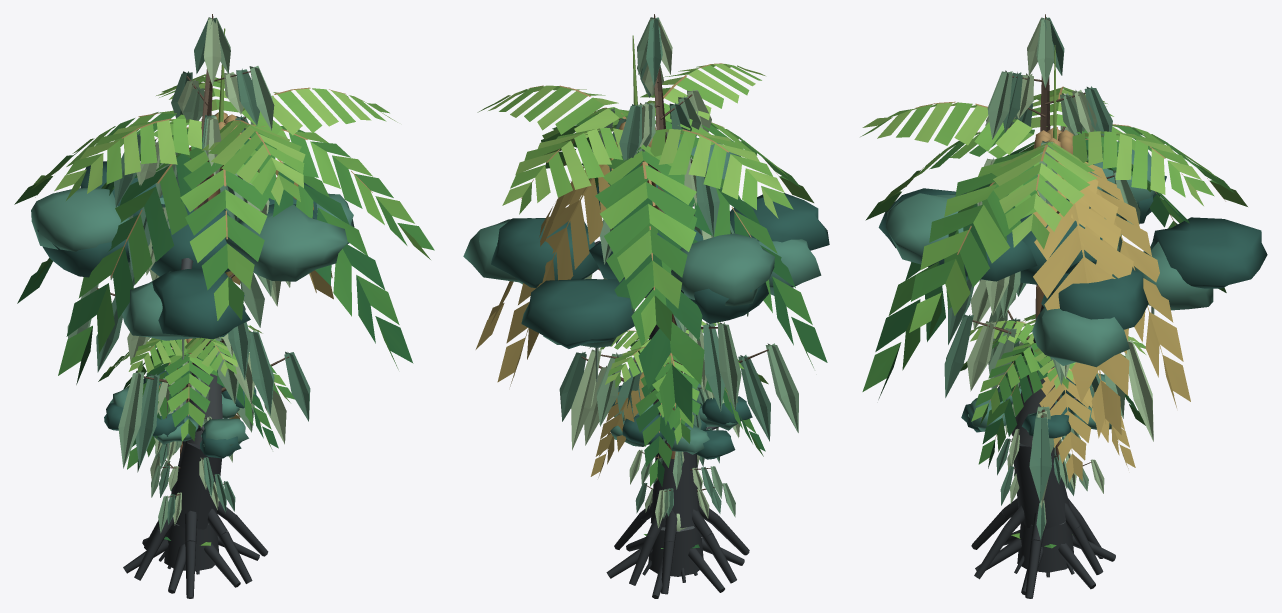
The model's file is palms.glb.
The picture shows the model from 3 angles, left to right: view 1: azimuth 30°, elevation 25°; view 2: azimuth 150°, elevation 25°; view 3: azimuth 270°, elevation 25°; orthographic projection. The views are drawn at different scales.
Visible parts, largest first — view 1: Tree_palm_mature, Tree_ironwood_mature, Tree_sea_pine_mature, Tree_palm_sapling, Tree_ironwood_sapling, Tree_sea_pine_sapling, Tree_ironwood_stump; view 2: Tree_palm_mature, Tree_ironwood_mature, Tree_sea_pine_mature, Tree_palm_sapling, Tree_ironwood_sapling, Tree_sea_pine_sapling, Tree_ironwood_stump; view 3: Tree_palm_mature, Tree_ironwood_mature, Tree_sea_pine_mature, Tree_palm_sapling, Tree_ironwood_stump, Tree_sea_pine_sapling, Tree_ironwood_sapling.
Boxes of the visible parts, x1,y1,x2,y2 form: Tree_palm_mature: (14, 28, 434, 453); Tree_ironwood_mature: (31, 161, 354, 598); Tree_sea_pine_mature: (67, 14, 310, 468); Tree_palm_sapling: (98, 325, 294, 472); Tree_ironwood_sapling: (104, 370, 258, 574); Tree_sea_pine_sapling: (150, 355, 235, 533); Tree_ironwood_stump: (123, 523, 259, 593); Tree_palm_mature: (475, 35, 827, 457); Tree_ironwood_mature: (463, 138, 829, 594); Tree_sea_pine_mature: (559, 14, 798, 462); Tree_palm_sapling: (589, 321, 768, 486); Tree_ironwood_sapling: (610, 383, 752, 582); Tree_sea_pine_sapling: (629, 372, 735, 528); Tree_ironwood_stump: (606, 526, 744, 598); Tree_palm_mature: (860, 45, 1247, 460); Tree_ironwood_mature: (878, 141, 1267, 598); Tree_sea_pine_mature: (944, 14, 1153, 508); Tree_palm_sapling: (960, 314, 1145, 482); Tree_ironwood_stump: (975, 521, 1115, 595); Tree_sea_pine_sapling: (996, 346, 1104, 540); Tree_ironwood_sapling: (961, 373, 1111, 577).
Bounding box in the file's own units: 4.09 × 6.38 × 4.19.
